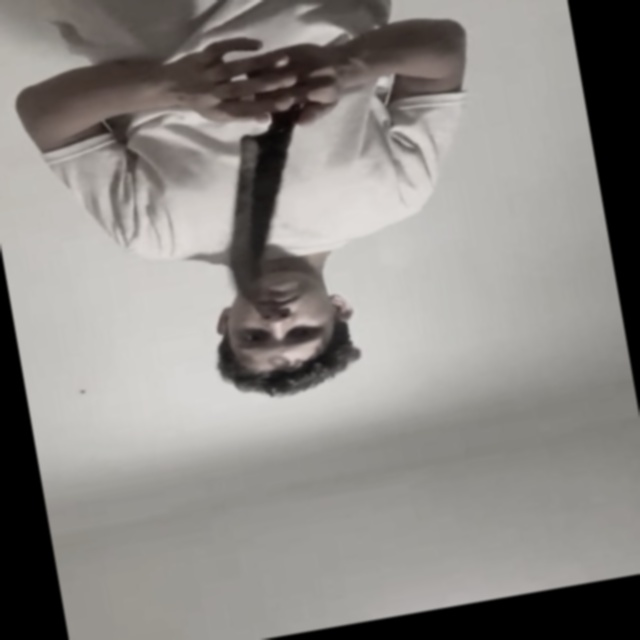Sharp-Object: (204, 128, 306, 306)
